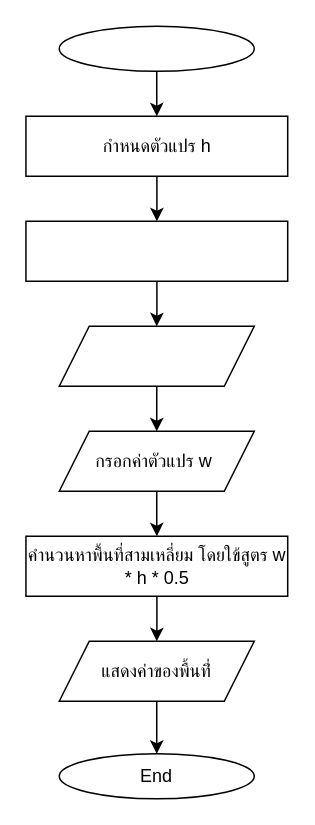
Image size: 315x825. Some labels were removed from this diagram. Each missing label, with the centre of its shape:
Start: pixel 156 48
กรอกค่าตัวแปร h: pixel 156 355
กำหนดตัวแปร w: pixel 156 250
